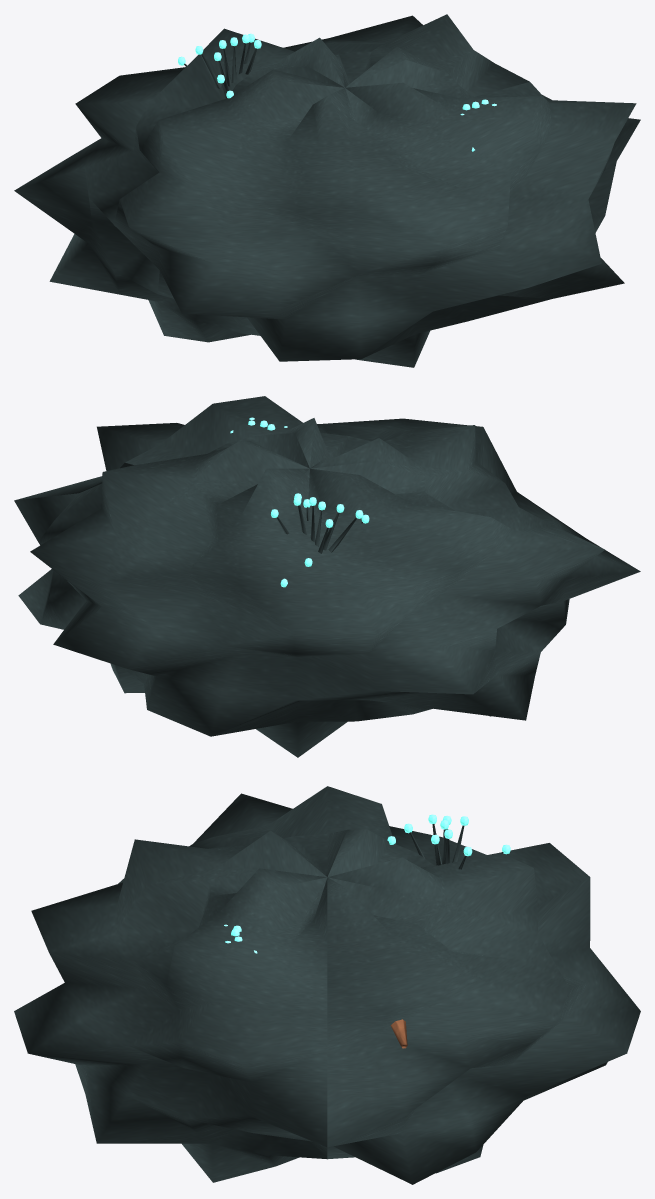
Rendered from starfish_urchin.glb.
3 views of the same model, one above another, from view 1: azimuth 30°, elevation 25°; view 2: azimuth 150°, elevation 25°; view 3: azimuth 270°, elevation 25° (orthographic). The views are drawn at different scales.
Parts seen in each view (by area): view 1: starfish_urchin; view 2: starfish_urchin; view 3: starfish_urchin.
Boxes of the visible parts, bbox=[...] form: starfish_urchin: bbox=[14, 14, 640, 367]; starfish_urchin: bbox=[14, 396, 640, 757]; starfish_urchin: bbox=[14, 786, 640, 1184].
Bounding box in the file's own units: 1.37 × 0.607 × 1.24.
1 material, 1 textured.
